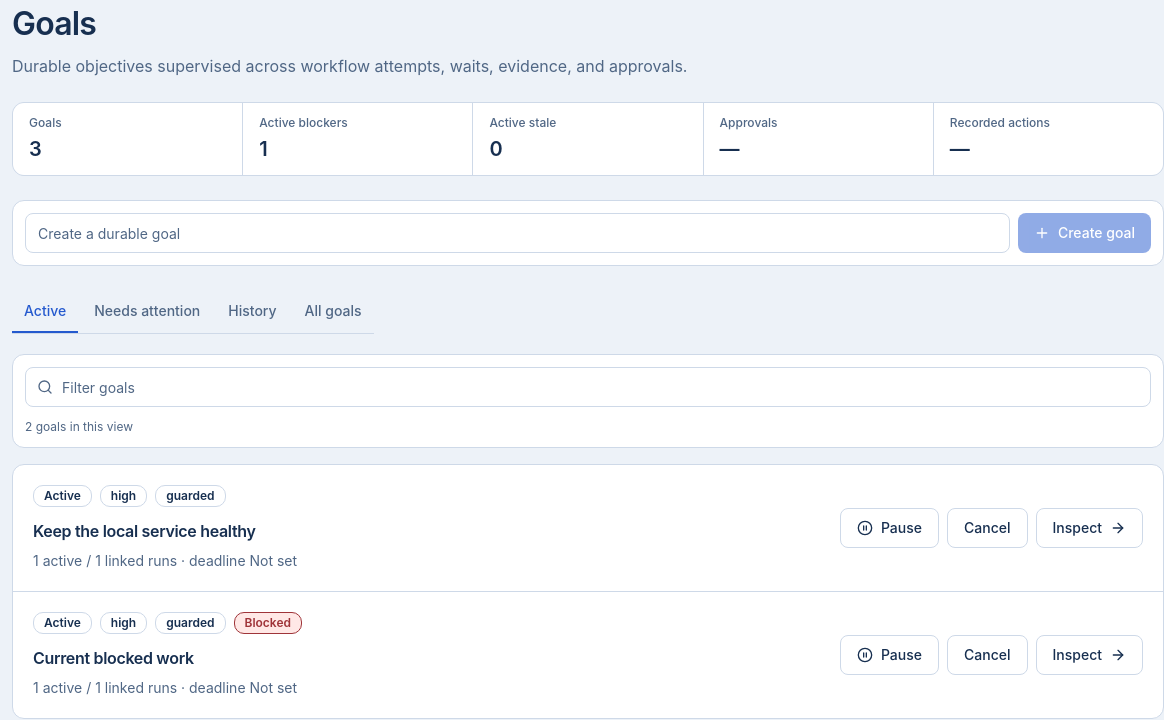
it: Goal supervision workspaces › separates historical blockers from current attention without taking an action
Expected: the heading "Current blocked work" is shown, [33,648,194,668]
Expected: the text "Historical cancelled work" is not shown
Press the mouse on the tab "Needs attention" at (147, 312), box [82,290,212,332]
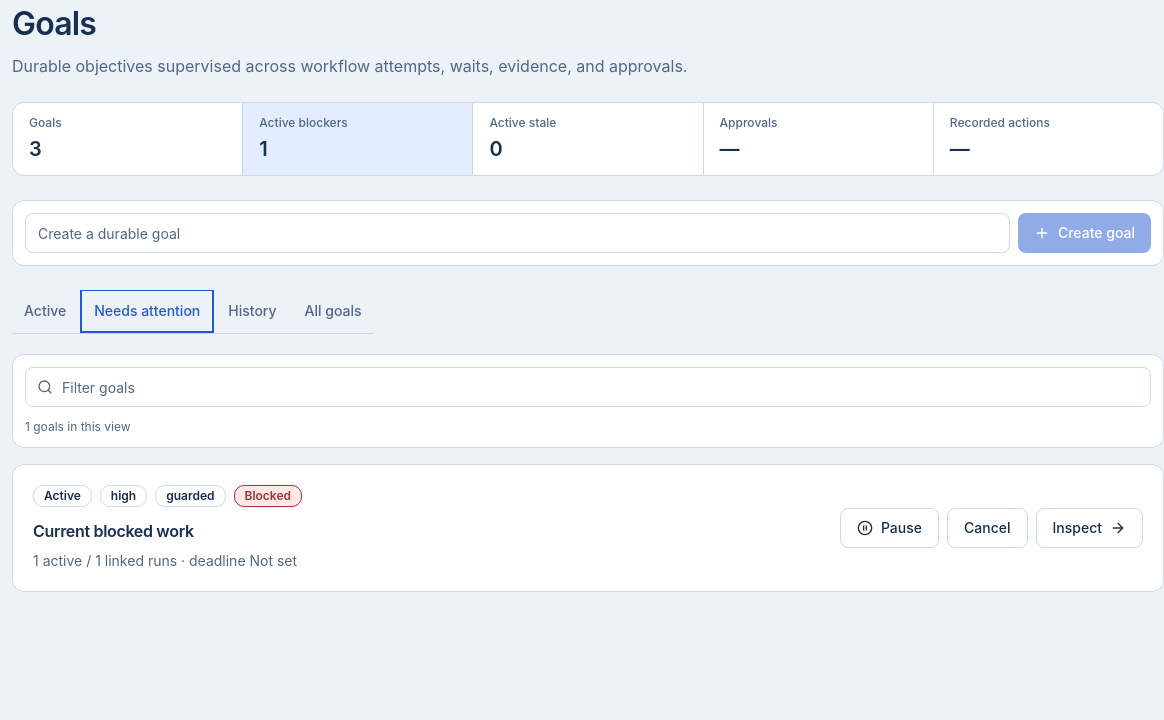
Expected: the heading "Current blocked work" is shown, [33,521,194,541]
Now the heading "Keep the local service healthy" is gone
Press the mouse on the tab "History" at (252, 312), box [216,290,289,332]
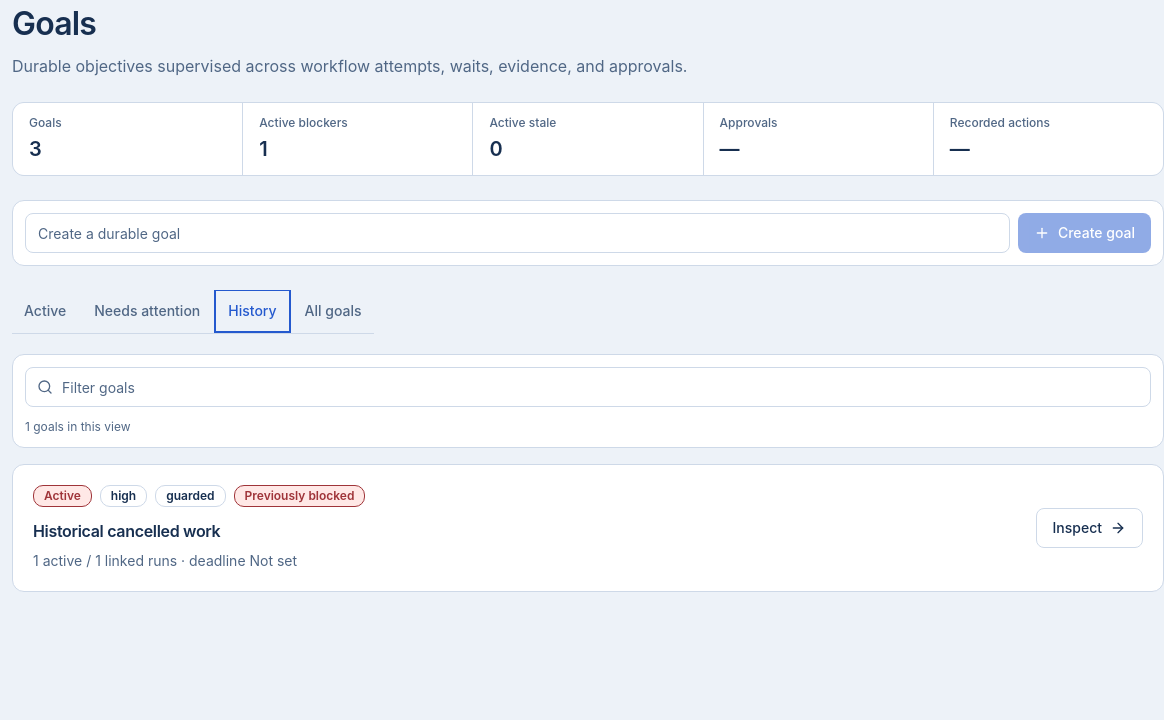
Now the heading "Historical cancelled work" is shown, box [33,521,220,541]
